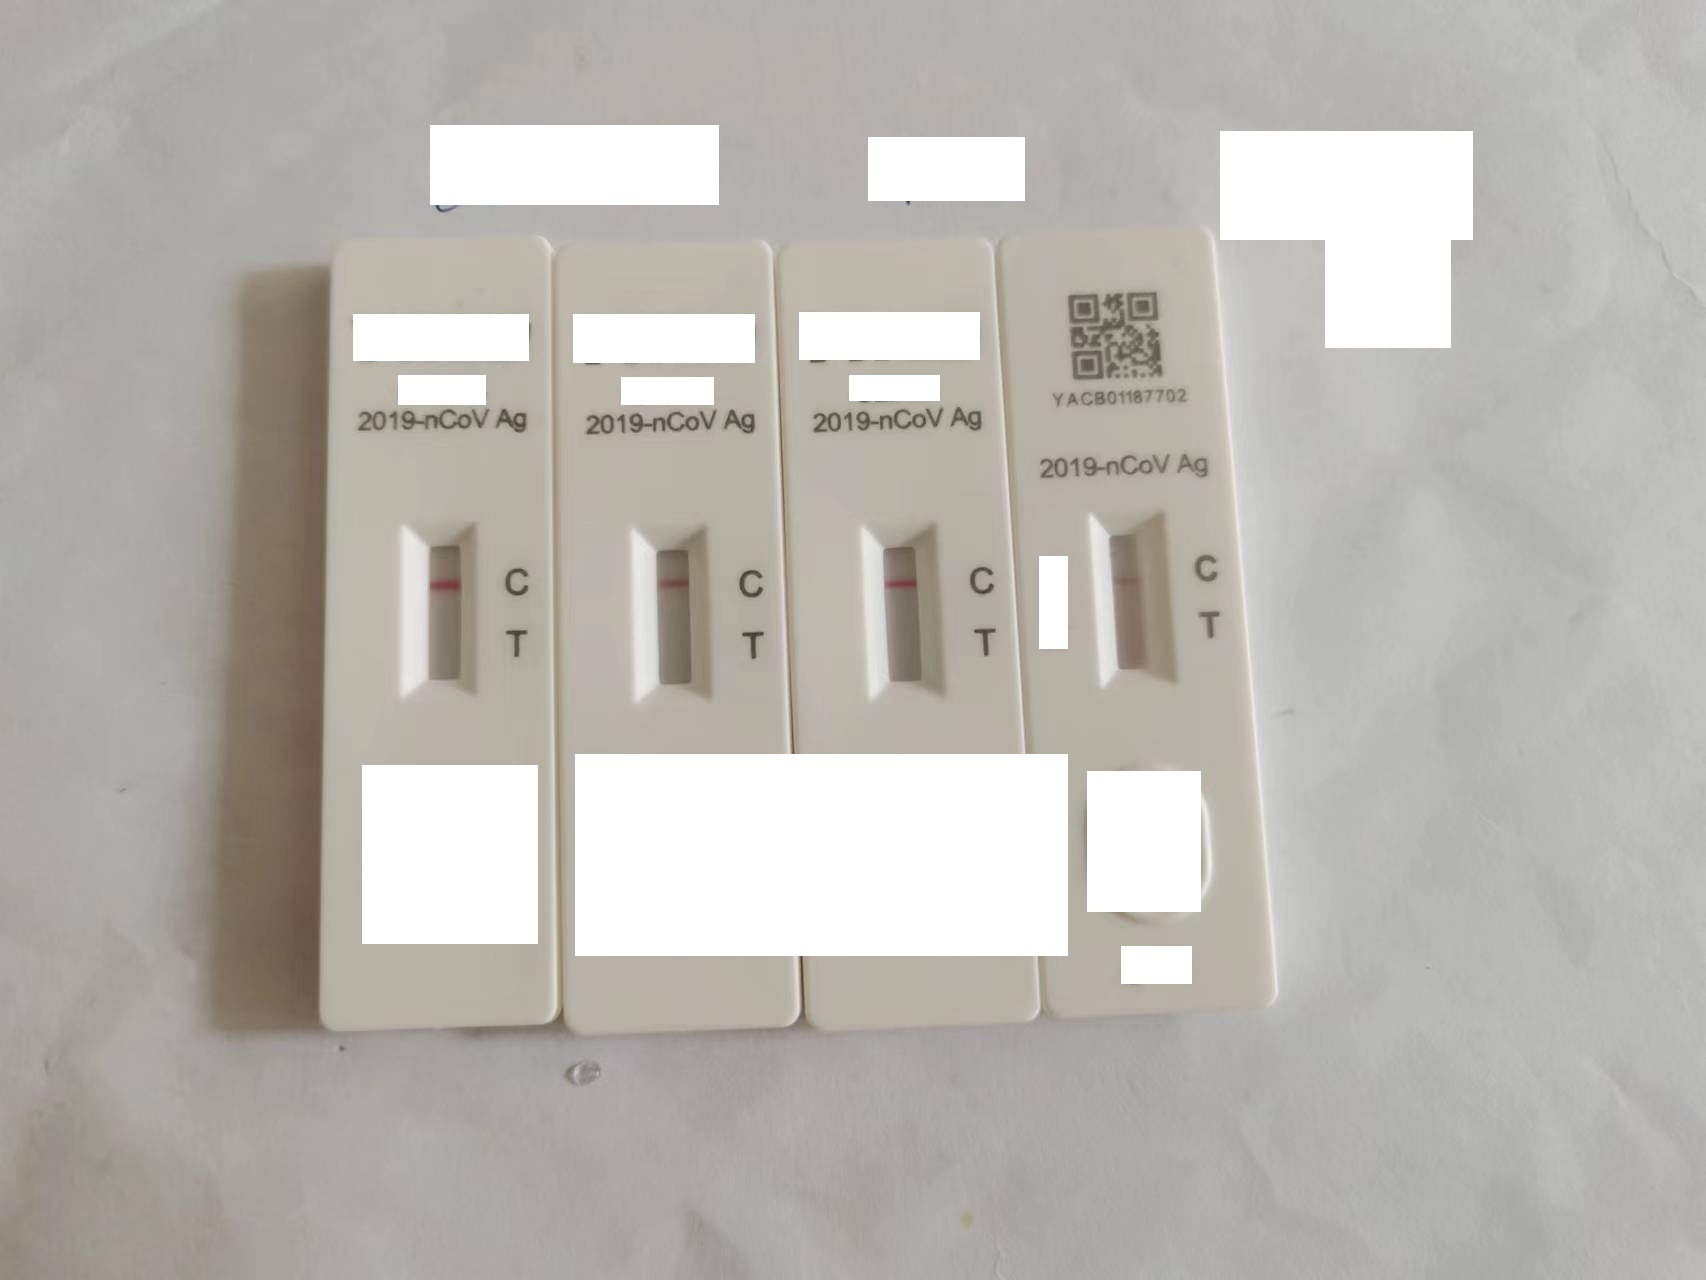negative: (1093, 510, 1172, 686), (633, 524, 711, 702), (399, 520, 476, 698), (862, 520, 938, 698)
